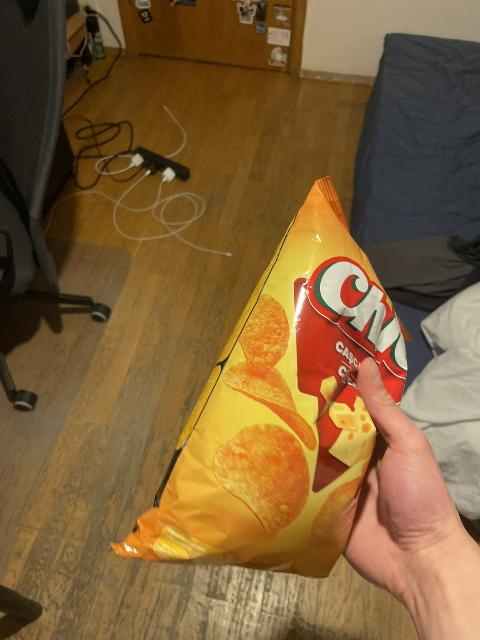Chio Cascaval 125g: (106, 178, 408, 578)
